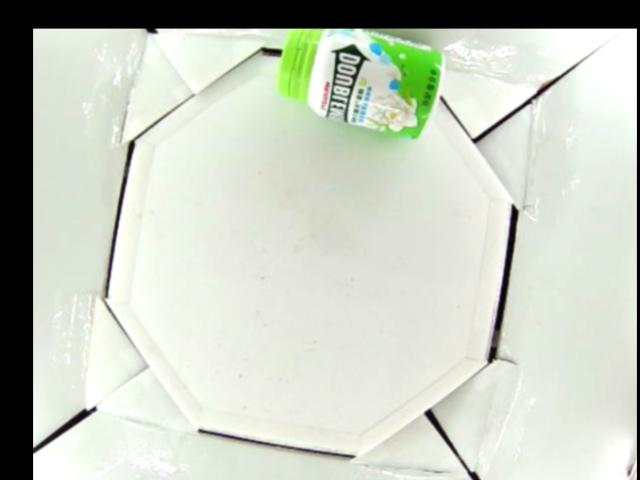Bottle: (275, 29, 446, 141)
